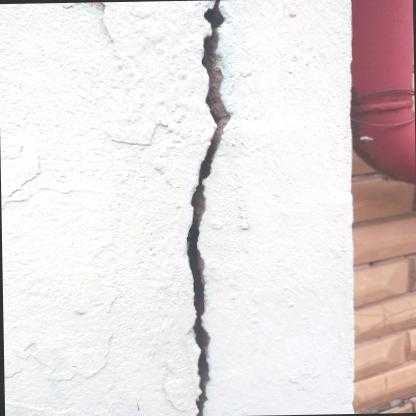crack: (180, 0, 237, 416)
